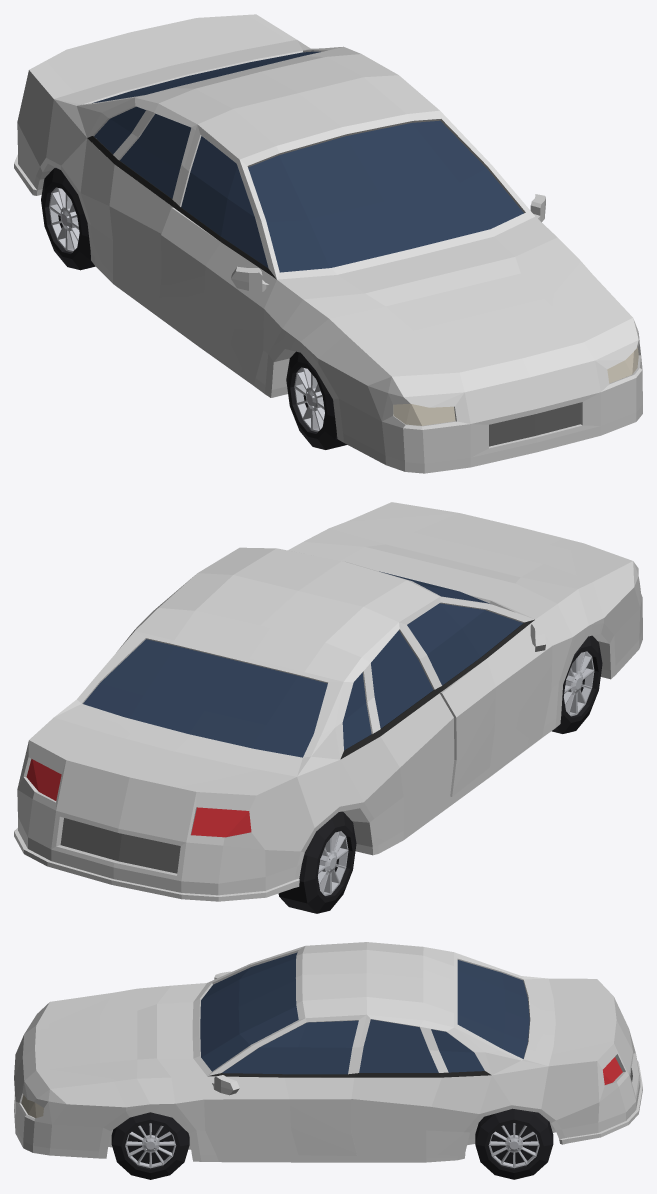
File: sedan.glb
3 views of the same model, one above another, from view 1: azimuth 30°, elevation 25°; view 2: azimuth 150°, elevation 25°; view 3: azimuth 270°, elevation 25° (orthographic). The views are drawn at different scales.
Parts seen in each view (by area): view 1: paint, glass, tyre, trim, rim, light; view 2: paint, glass, tyre, trim, rim, light; view 3: paint, glass, tyre, rim, trim, light.
Boxes of the visible parts, x1,y1,x2,y2 form: paint: (14, 14, 642, 473); glass: (92, 51, 523, 272); tyre: (41, 168, 346, 449); trim: (87, 136, 580, 446); rim: (49, 187, 324, 432); light: (393, 347, 638, 425); paint: (14, 502, 642, 901); glass: (83, 571, 522, 757); tyre: (278, 635, 602, 913); trim: (60, 619, 534, 873); rim: (318, 651, 594, 895); light: (26, 759, 251, 837); paint: (14, 942, 642, 1162); glass: (200, 952, 529, 1074); tyre: (111, 1108, 553, 1179); rim: (125, 1123, 539, 1168); trim: (208, 1068, 632, 1081); light: (21, 1057, 622, 1118).
Size of the model in its own units: 1.93 by 1.25 by 4.5.
